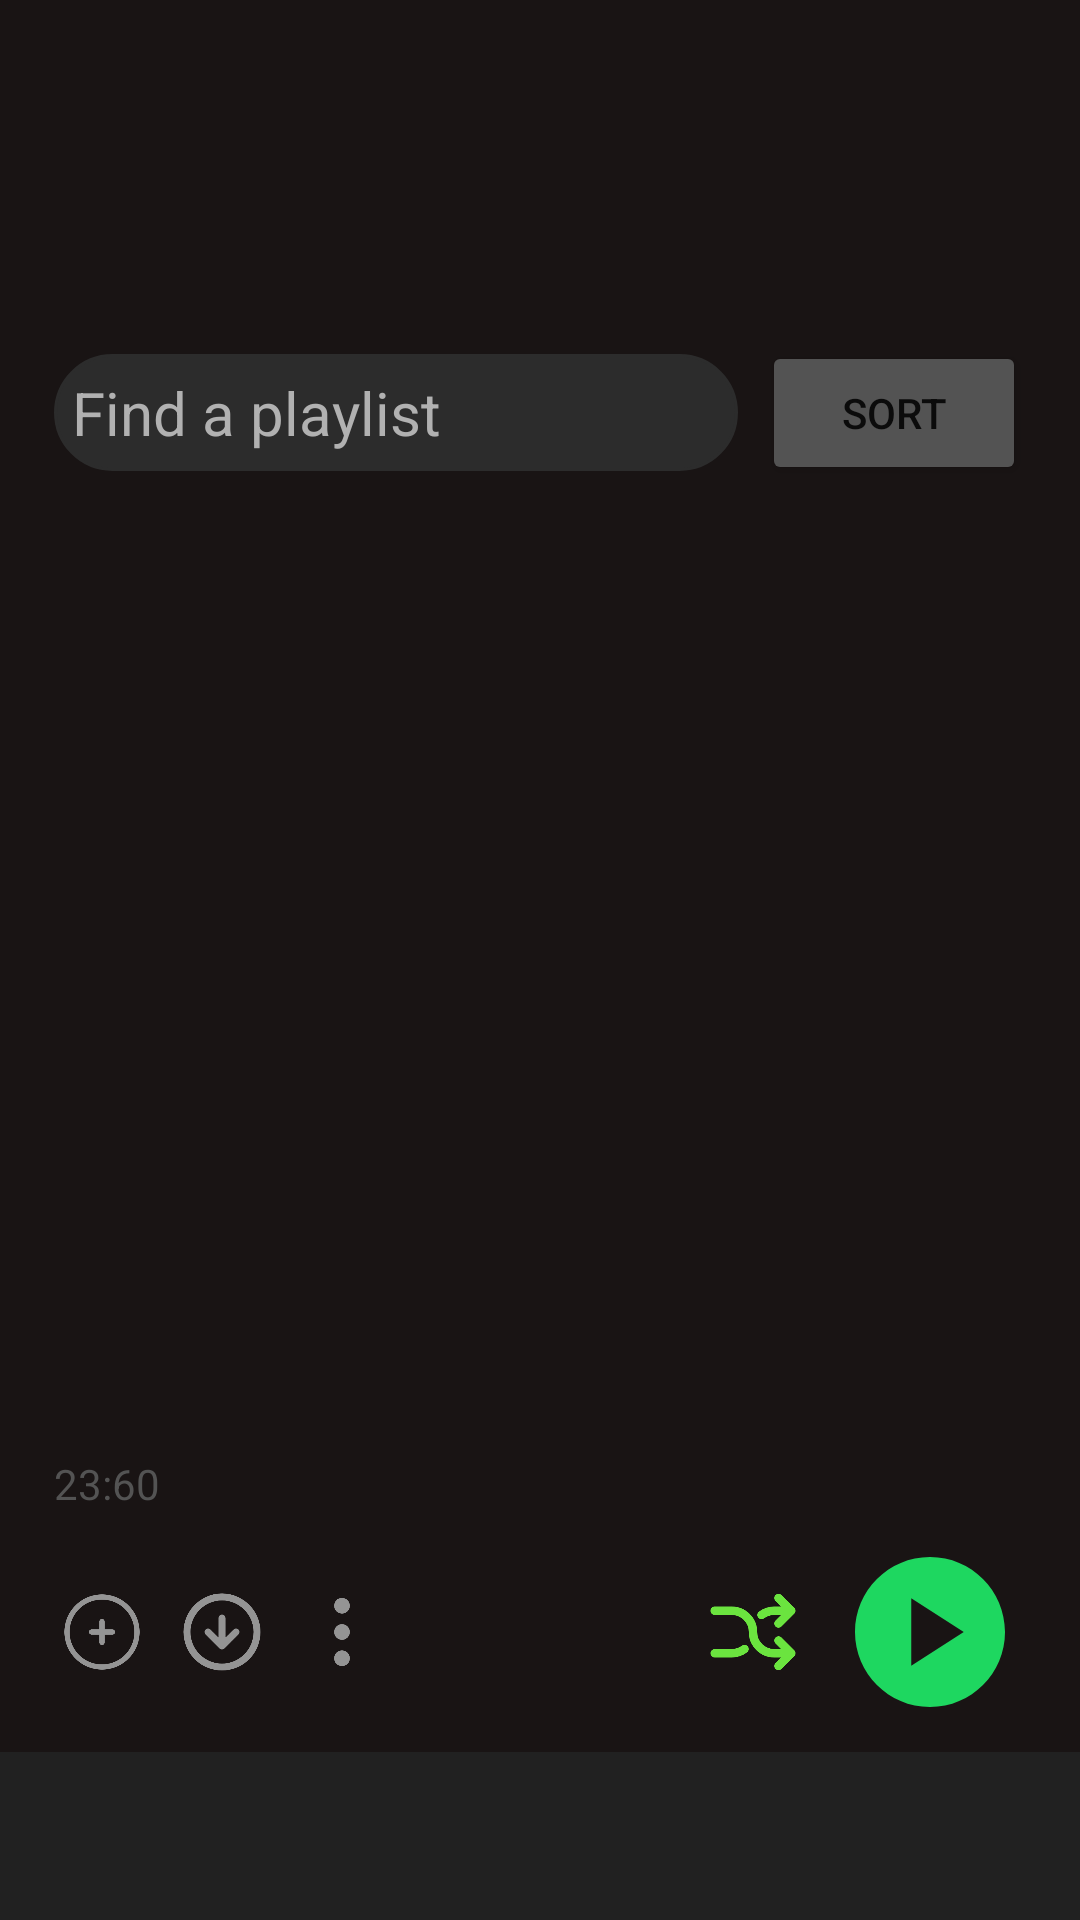

Point at icon controls on the screen. Image size 1080px×1920px, points as (x=x, y=y).
circle add: (x=102, y=1632)
circle download: (x=222, y=1632)
play online: (x=930, y=1632)
shuffle: (x=753, y=1632)
three dots: (x=342, y=1632)
